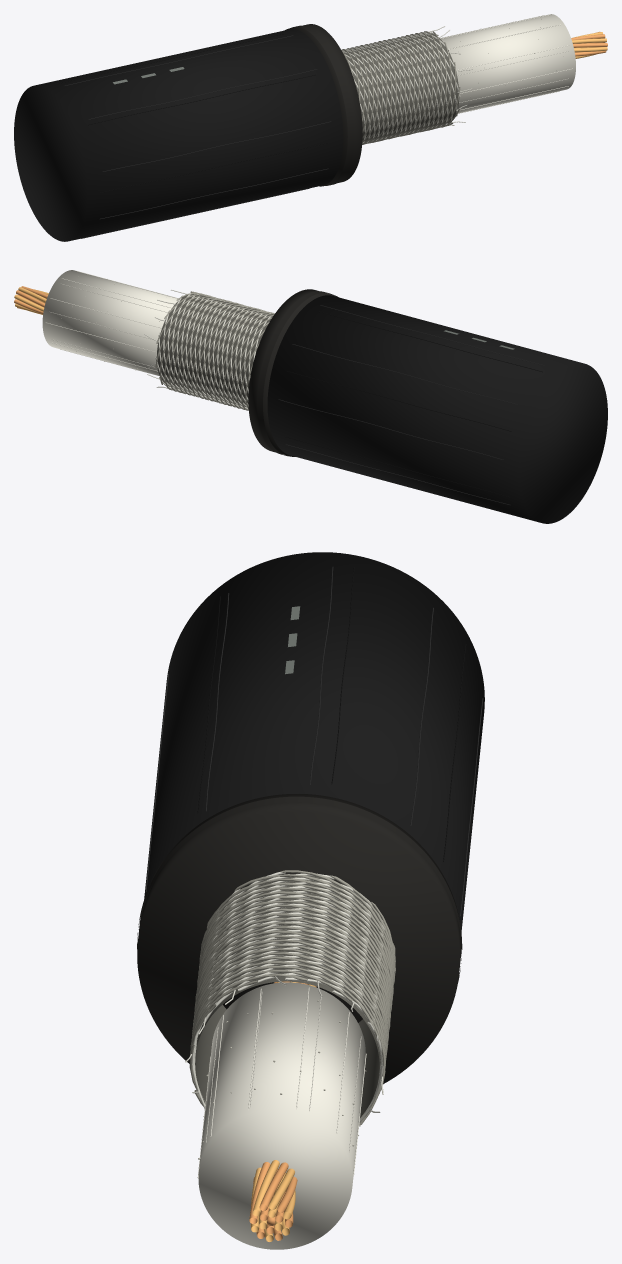
File: rf-rg8x-macro.glb
3 views of the same model, one above another, from view 1: azimuth 30°, elevation 25°; view 2: azimuth 150°, elevation 25°; view 3: azimuth 270°, elevation 25° (orthographic). The views are drawn at different scales.
Parts seen in each view (by area): view 1: macro jacket body, macro dielectric exposed core, shadow seen through braid windows, thick jacket cut wall, rounded jacket cut lip, macro braid shadow carrier 07 strand 1, macro braid shadow carrier 06 strand 1, macro braid shadow carrier 08 strand 1, macro braid shadow carrier 05 strand 1, macro braid shadow carrier 04 strand 1, macro braid shadow carrier 09 strand 1; view 2: macro jacket body, macro dielectric exposed core, shadow seen through braid windows, thick jacket cut wall, rounded jacket cut lip, macro braid shadow carrier 02 strand 1, macro braid shadow carrier 03 strand 1, macro braid shadow carrier 04 strand 1, macro braid shadow carrier 12 strand 1, macro braid shadow carrier 01 strand 1, macro braid shadow carrier 05 strand 1; view 3: macro jacket body, thick jacket cut wall, macro dielectric exposed core, shadow seen through braid windows, rounded jacket cut lip, macro braid shadow carrier 04 strand 2, macro braid shadow carrier 10 strand 2, macro braid shadow carrier 05 strand 2, macro braid shadow carrier 08 strand 2, macro braid shadow carrier 09 strand 2, macro braid shadow carrier 11 strand 2, macro braid shadow carrier 07 strand 2 (+5 smaller).
Boxes of the visible parts, bbox=[...] form: macro jacket body: bbox=[14, 29, 343, 241]; macro dielectric exposed core: bbox=[440, 14, 575, 113]; shadow seen through braid windows: bbox=[344, 33, 459, 141]; thick jacket cut wall: bbox=[285, 24, 362, 186]; rounded jacket cut lip: bbox=[290, 25, 353, 185]; macro braid shadow carrier 07 strand 1: bbox=[362, 31, 442, 144]; macro braid shadow carrier 06 strand 1: bbox=[362, 32, 437, 144]; macro braid shadow carrier 08 strand 1: bbox=[367, 31, 446, 143]; macro braid shadow carrier 05 strand 1: bbox=[359, 33, 433, 142]; macro braid shadow carrier 04 strand 1: bbox=[355, 34, 428, 138]; macro braid shadow carrier 09 strand 1: bbox=[373, 41, 451, 142]; macro jacket body: bbox=[267, 295, 607, 523]; macro dielectric exposed core: bbox=[42, 270, 178, 375]; shadow seen through braid windows: bbox=[156, 294, 272, 407]; thick jacket cut wall: bbox=[248, 289, 338, 456]; rounded jacket cut lip: bbox=[257, 291, 333, 456]; macro braid shadow carrier 02 strand 1: bbox=[169, 300, 273, 406]; macro braid shadow carrier 03 strand 1: bbox=[164, 299, 274, 404]; macro braid shadow carrier 04 strand 1: bbox=[160, 298, 274, 403]; macro braid shadow carrier 12 strand 1: bbox=[178, 302, 268, 408]; macro braid shadow carrier 01 strand 1: bbox=[173, 301, 272, 406]; macro braid shadow carrier 05 strand 1: bbox=[155, 296, 269, 402]; macro jacket body: bbox=[144, 552, 484, 932]; thick jacket cut wall: bbox=[137, 794, 461, 1083]; macro dielectric exposed core: bbox=[198, 982, 365, 1249]; shadow seen through braid windows: bbox=[195, 876, 380, 1117]; rounded jacket cut lip: bbox=[137, 796, 462, 982]; macro braid shadow carrier 04 strand 2: bbox=[193, 904, 390, 1124]; macro braid shadow carrier 10 strand 2: bbox=[191, 878, 393, 1049]; macro braid shadow carrier 05 strand 2: bbox=[192, 909, 395, 1083]; macro braid shadow carrier 08 strand 2: bbox=[191, 870, 394, 1039]; macro braid shadow carrier 09 strand 2: bbox=[190, 874, 393, 1047]; macro braid shadow carrier 11 strand 2: bbox=[190, 883, 393, 1103]; macro braid shadow carrier 07 strand 2: bbox=[193, 875, 395, 1029].
Size of the model in its own units: 6.46 by 1.68 by 1.79.
